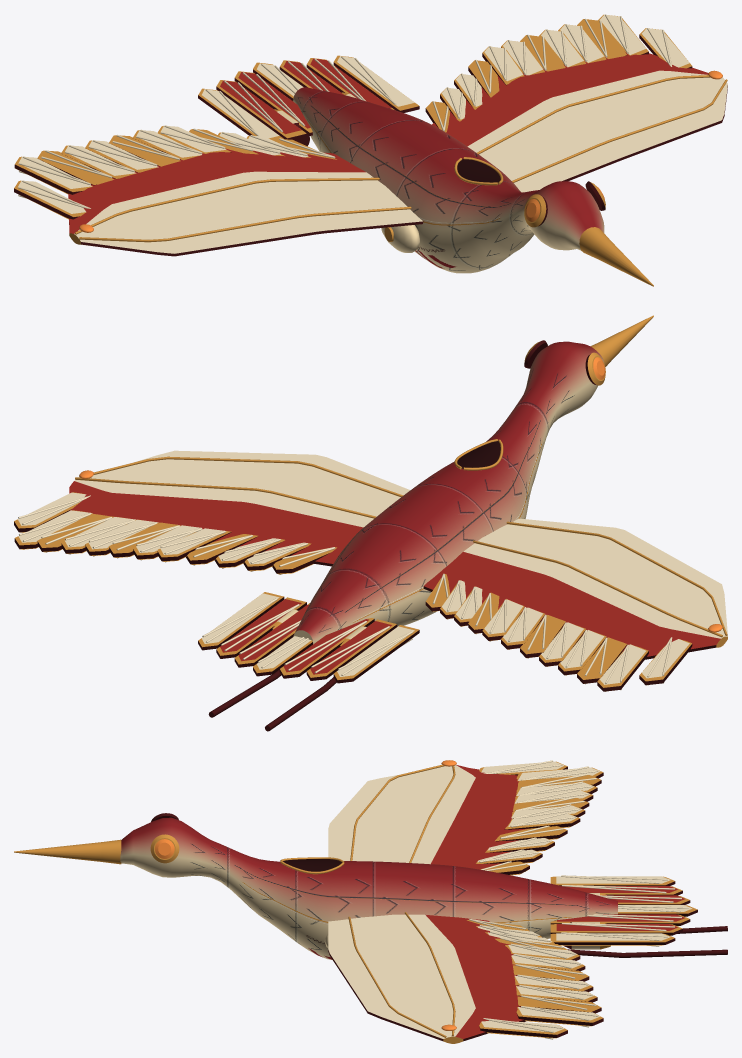
3 views of the same model, one above another, from view 1: azimuth 30°, elevation 25°; view 2: azimuth 150°, elevation 25°; view 3: azimuth 270°, elevation 25° (orthographic). The views are drawn at different scales.
Visible parts, largest first — view 1: egret_hull; view 2: egret_hull; view 3: egret_hull.
Part boxes in pixels (<box>): egret_hull: <box>14,14,727,286</box>; egret_hull: <box>14,315,727,731</box>; egret_hull: <box>14,760,727,1043</box>.
Size of the model in its own units: 36.2 by 8.4 by 40.
Materials: 1 (1 with a texture image).
